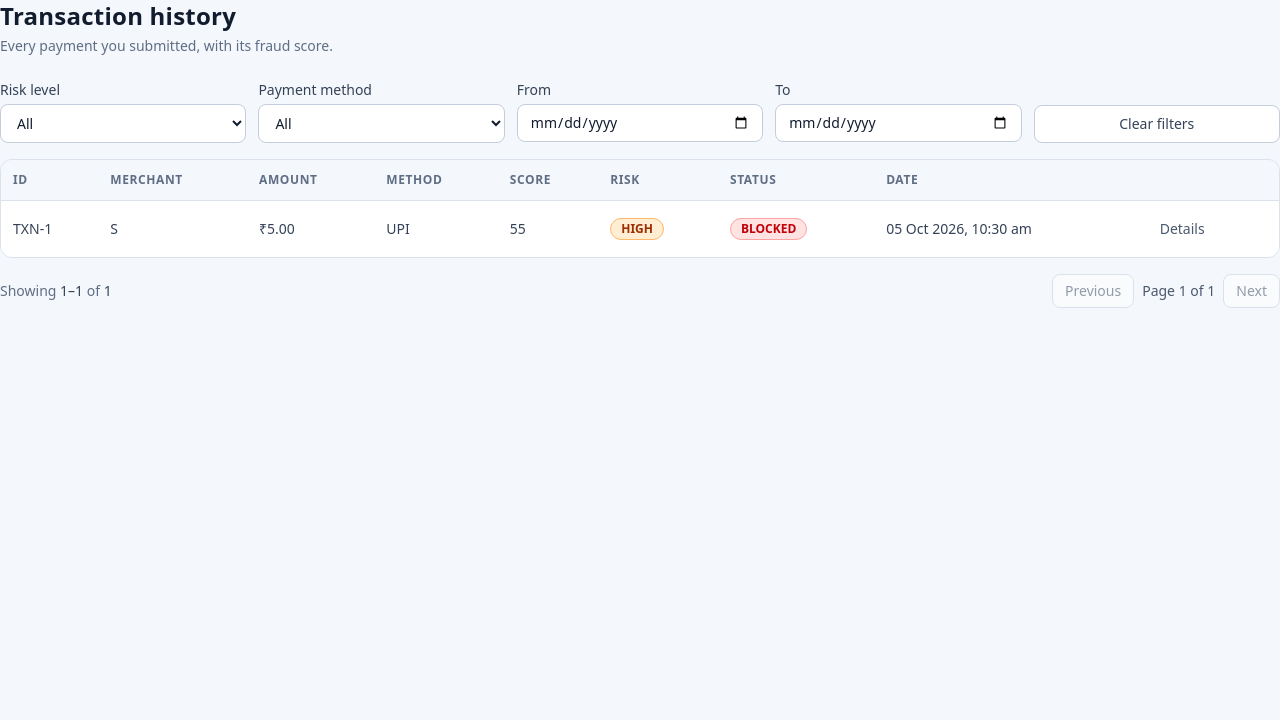
Test: B-01 in the detail panels › TransactionHistory detail shows the breakdown
Expected: the text "BLOCKED" is shown, [730, 218, 807, 240]
Click the button with aria-label "Details for TXN-1". click: (1182, 229)
box: [1148, 213, 1217, 245]
(page scrolled)
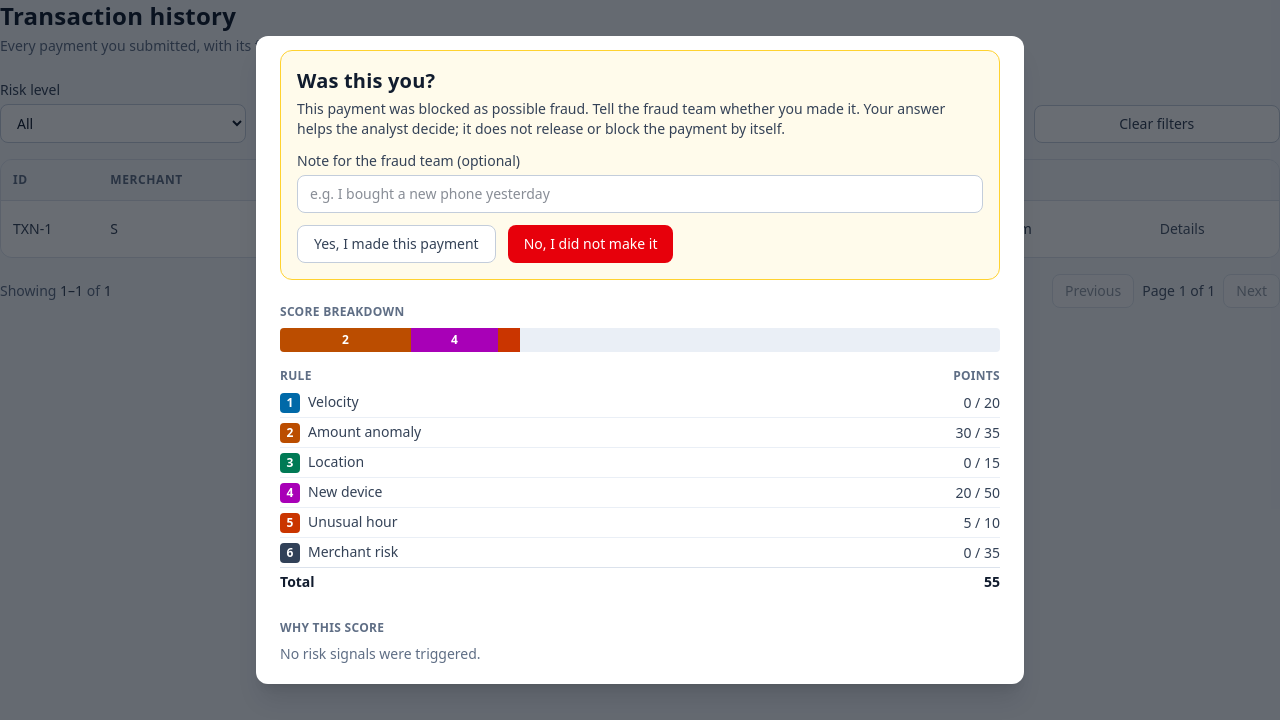
Result: the element with test id "score-breakdown" is shown at [280, 304, 1000, 596]
